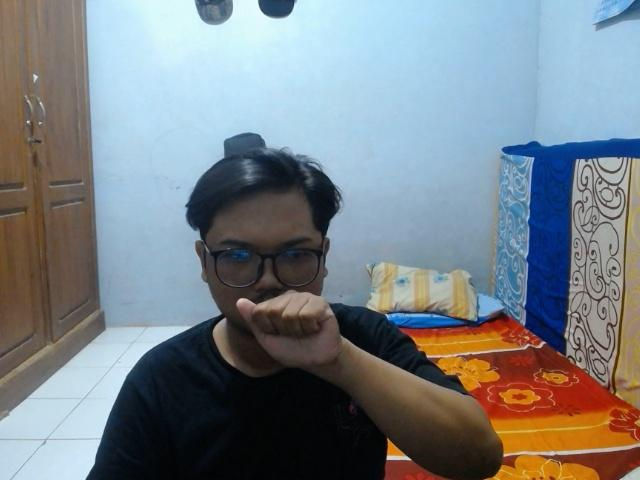Grab: (232, 284, 349, 380)
